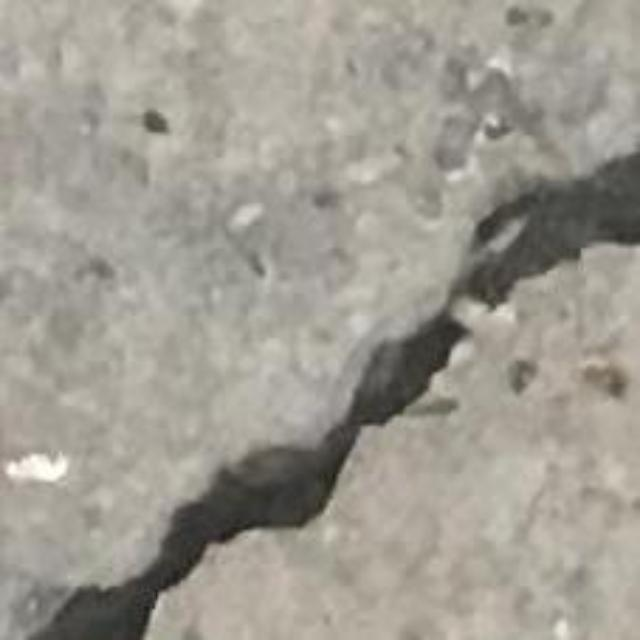crack: (32, 150, 639, 639)
